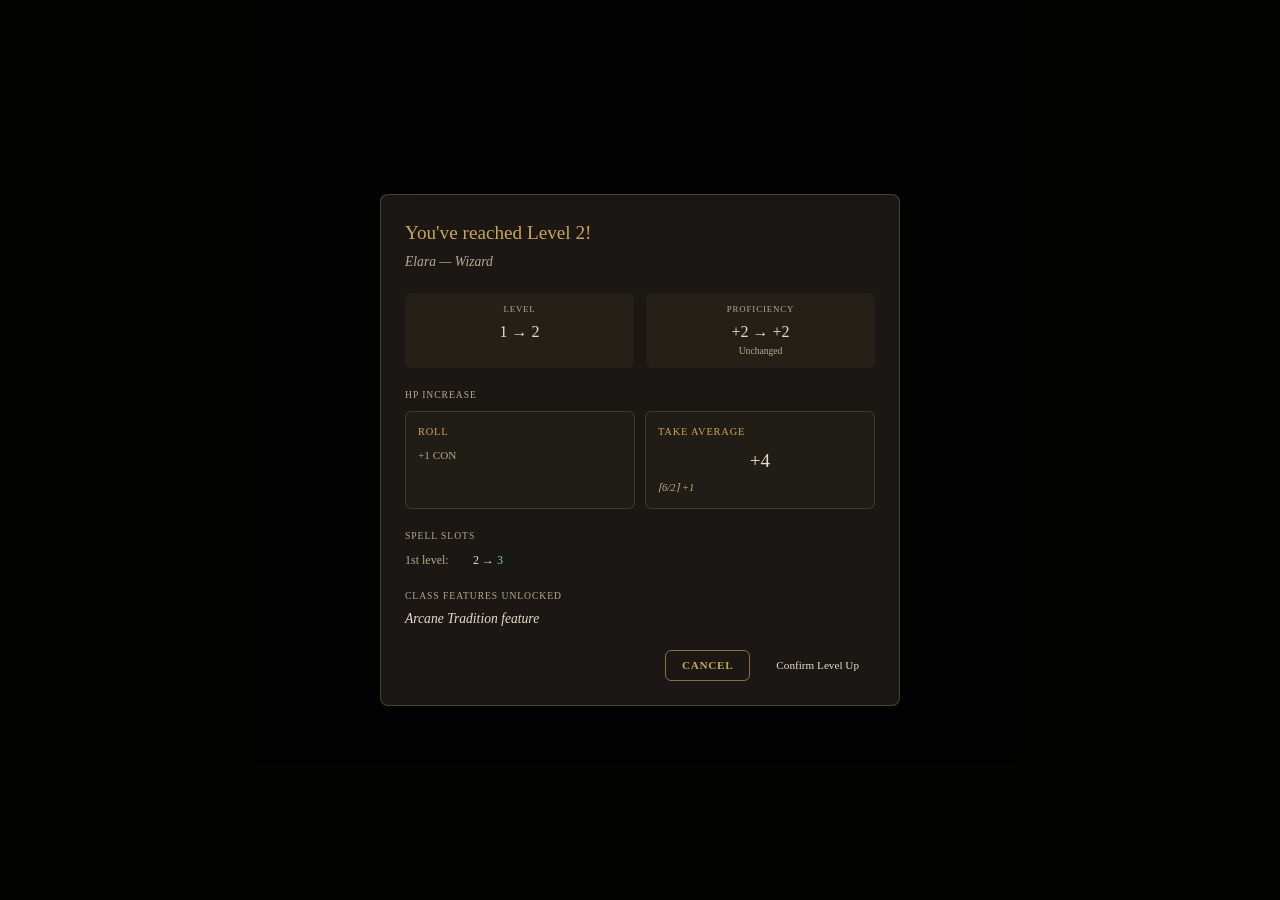
Test: LevelUpModal (DIN-28) › Confirm button is disabled until HP choice is selected
Expected: the button "Confirm Level Up" is disabled, [760,650,875,681]
Step 1. Click the element with test id "hp-choice-roll" → (520, 460), box [405,411,635,509]
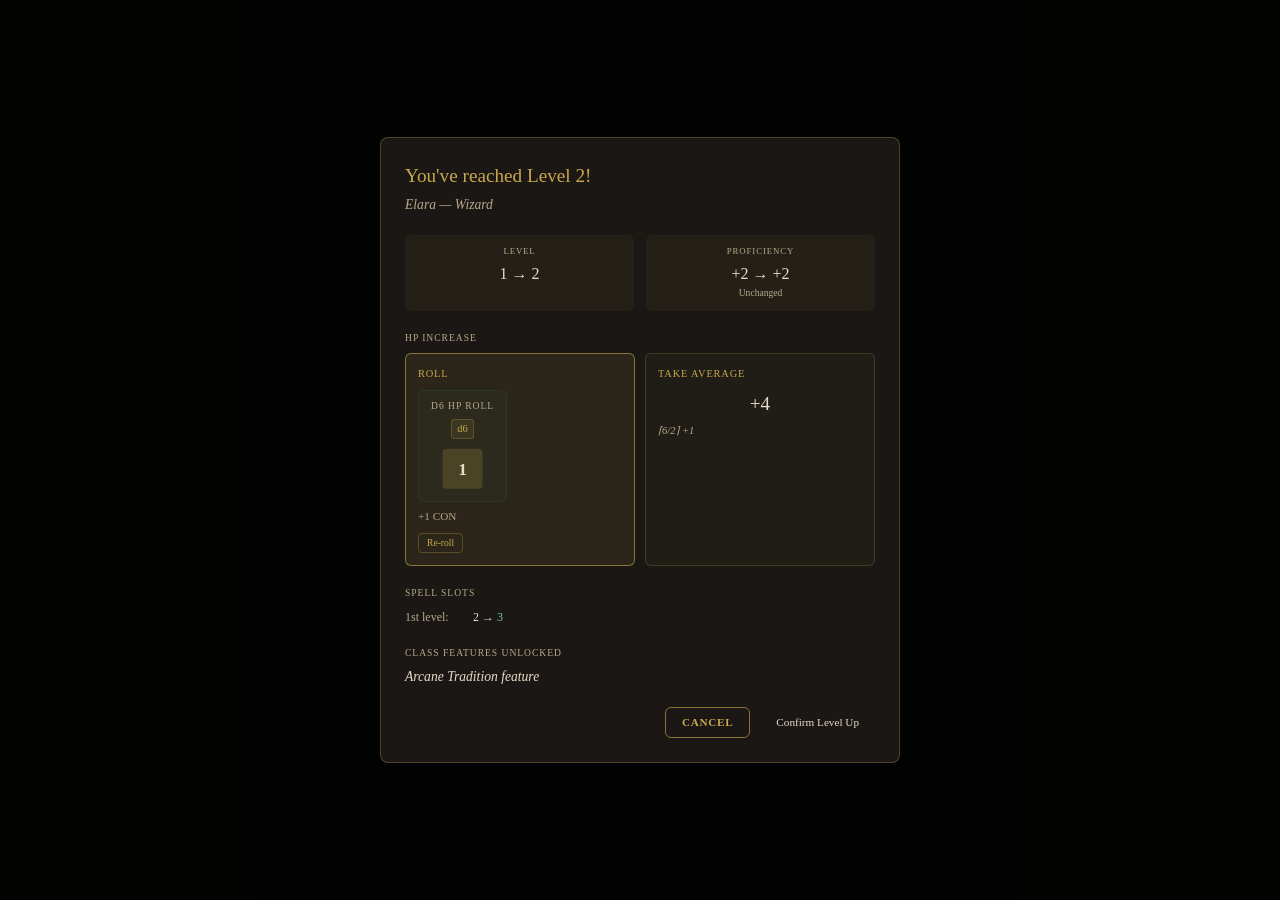
Now the button "Confirm Level Up" is enabled, box [760,707,875,738]
